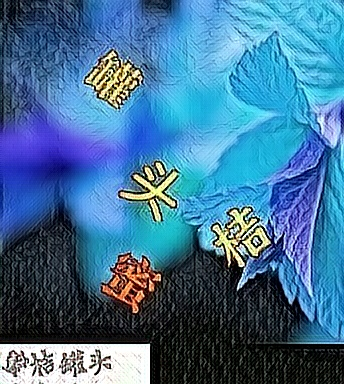B9DE: (81, 46, 146, 113)
BDDB: (208, 202, 273, 269)
C3DB: (99, 247, 164, 314)
CDB7: (116, 156, 181, 223)
